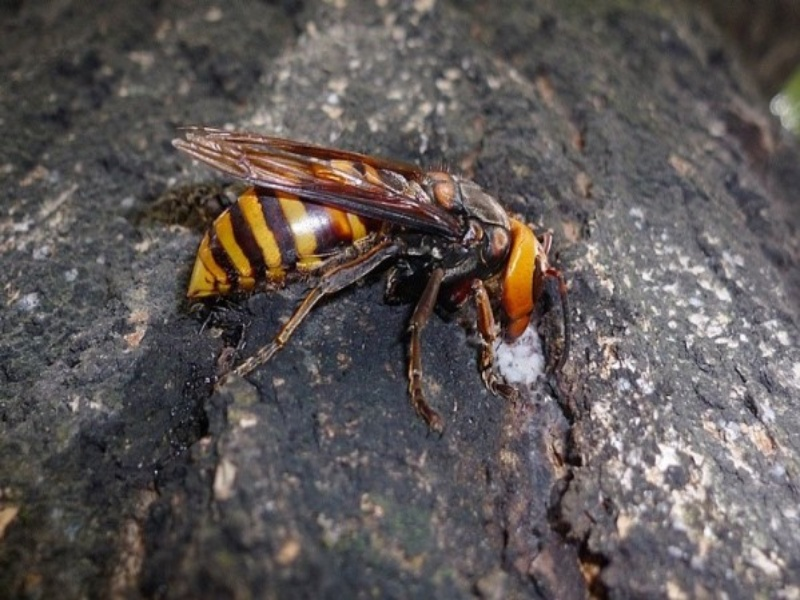asian_giant_hornet: (183, 148, 566, 374)
